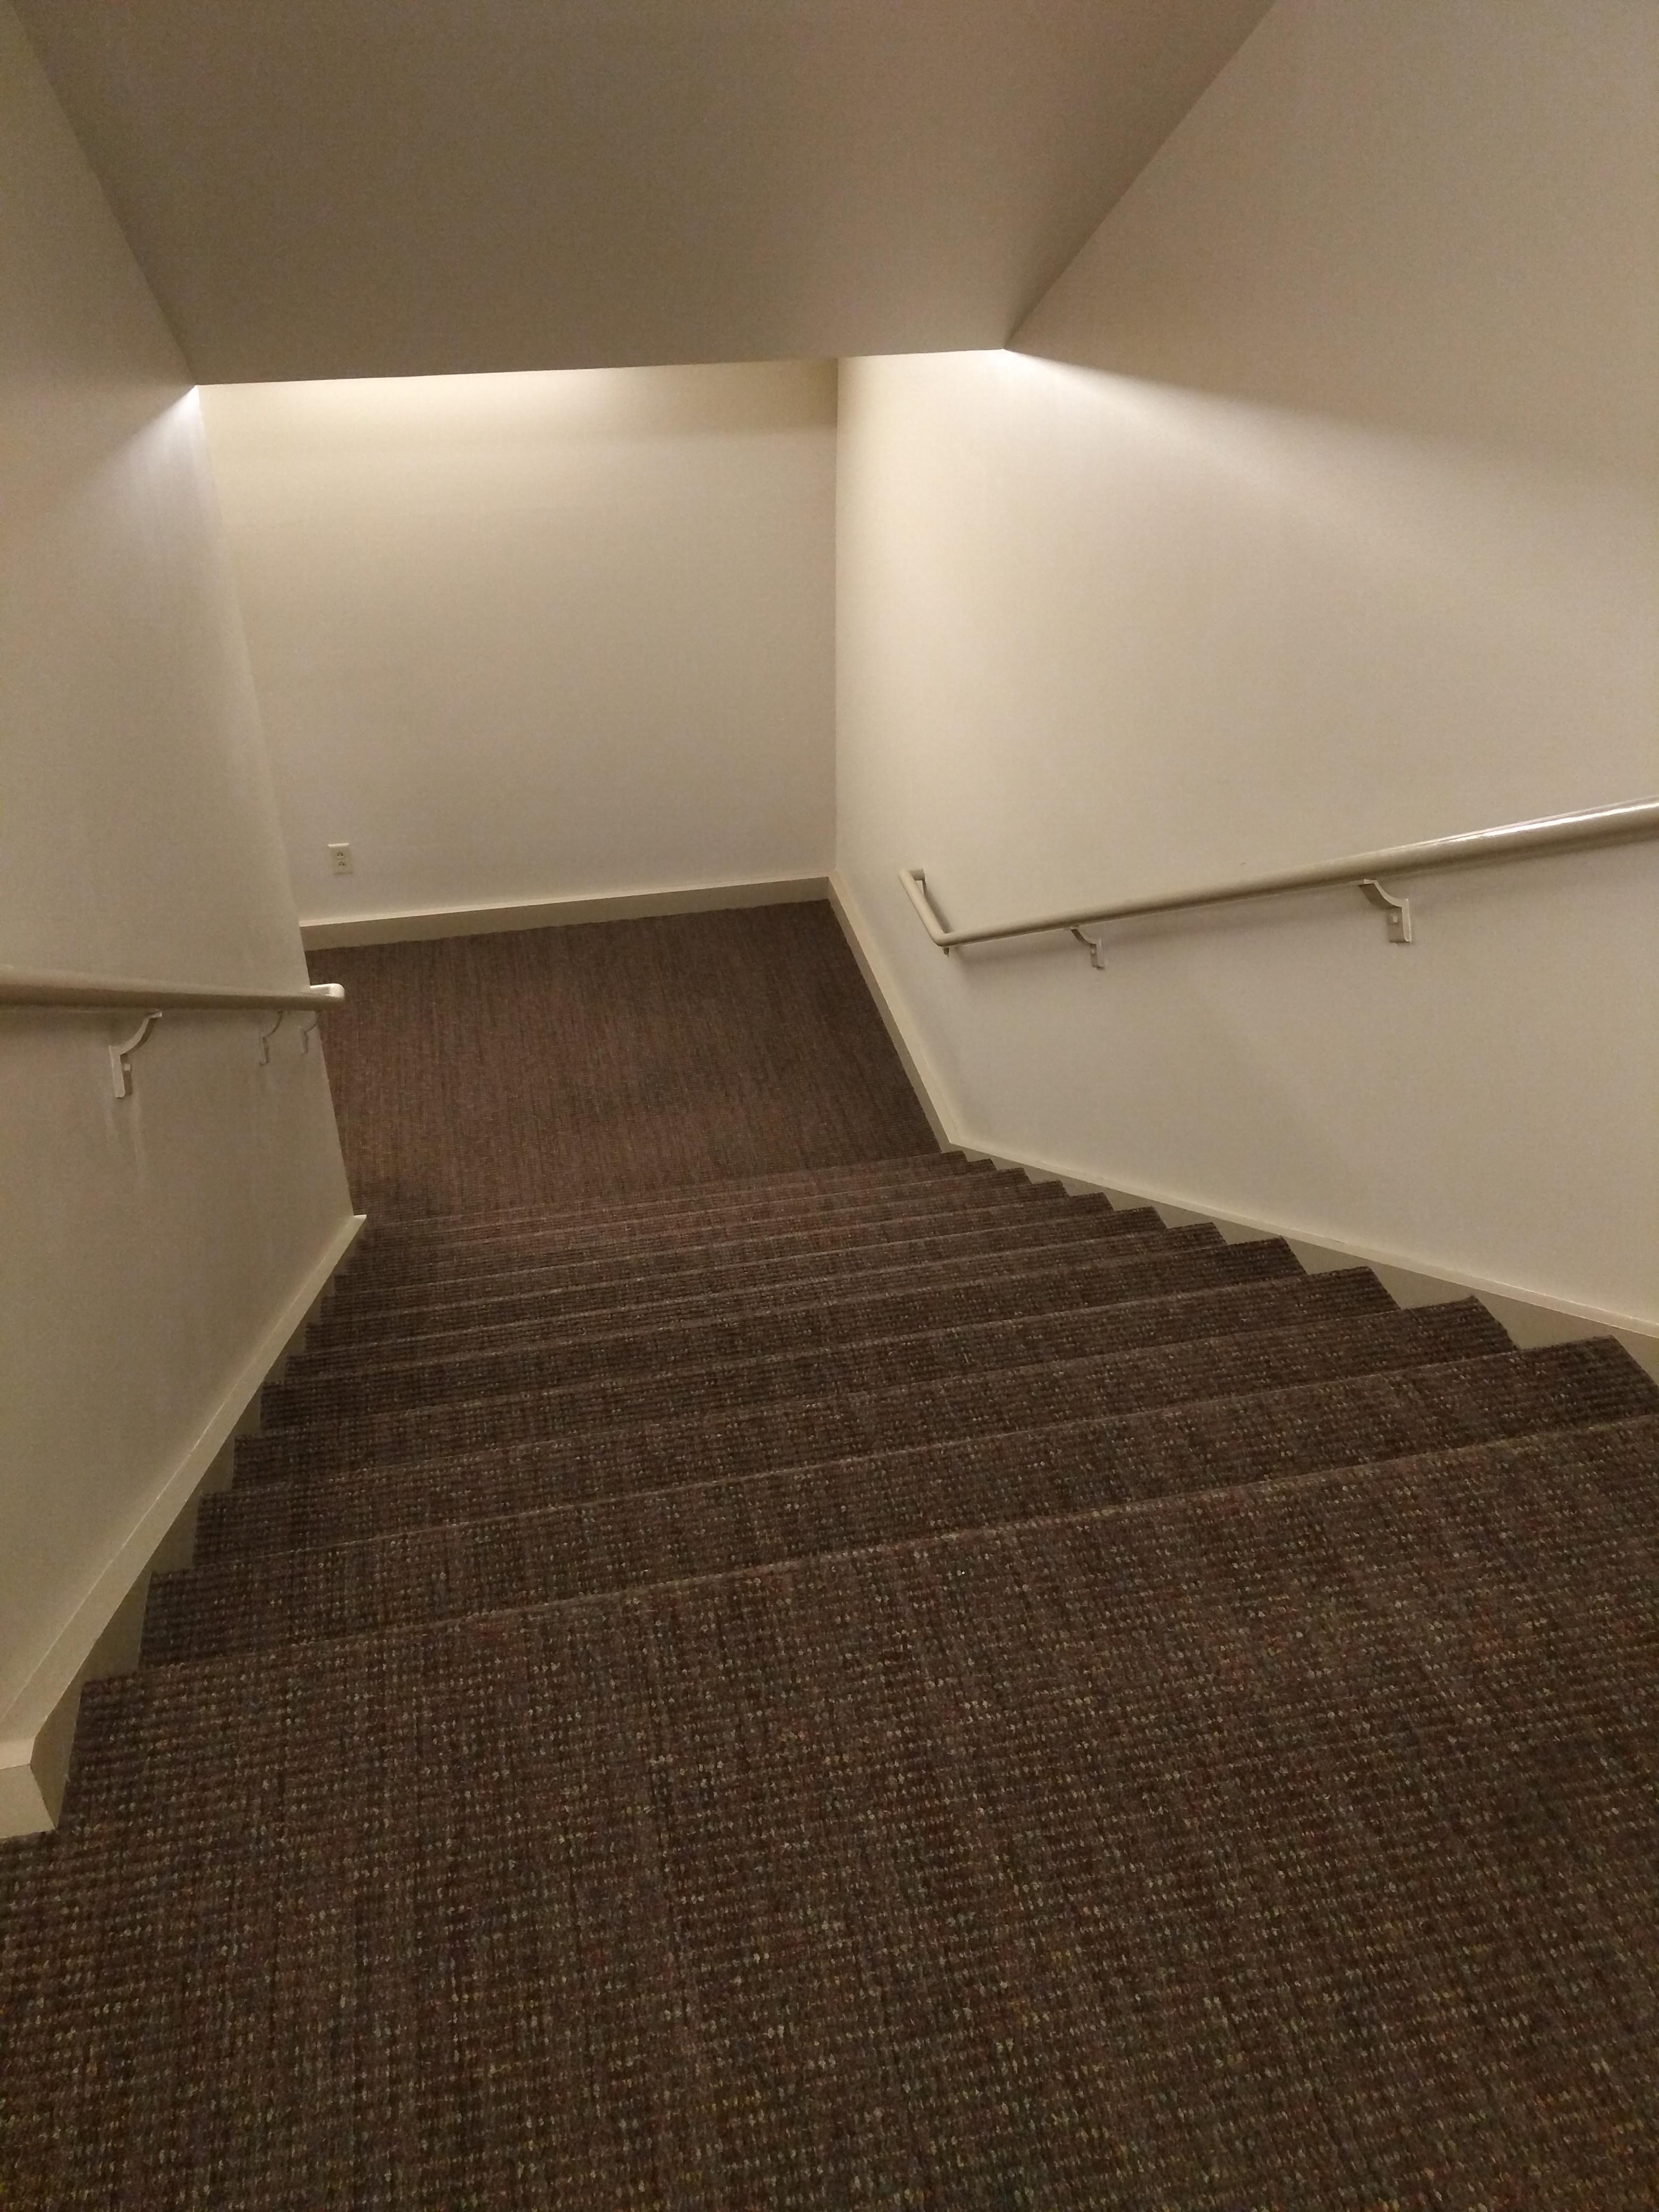stairs_down: (138, 1127, 1629, 1646)
